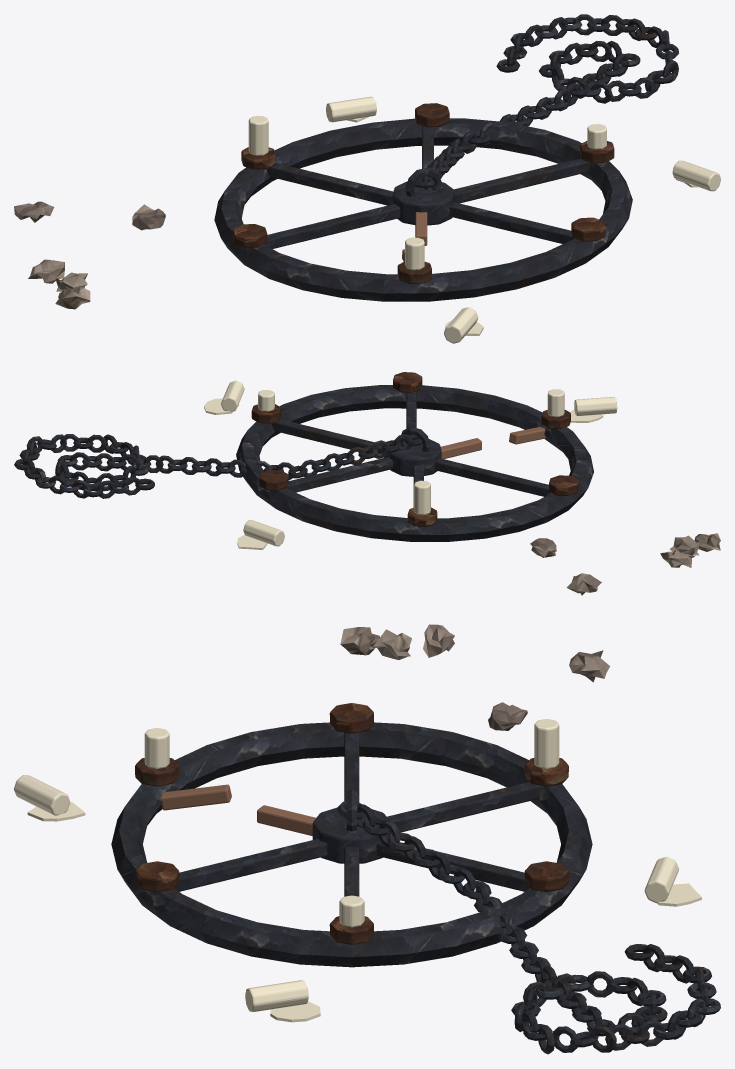
The model's file is chandelier_fallen.glb.
3 renders of one model, top to bottom at view 1: azimuth 30°, elevation 25°; view 2: azimuth 150°, elevation 25°; view 3: azimuth 270°, elevation 25°, orthographic. The views are drawn at different scales.
Parts seen in each view (by area): view 1: model; view 2: model; view 3: model.
Boxes of the visible parts, <box> form: model: <box>14,14,720,343</box>; model: <box>14,372,720,595</box>; model: <box>14,624,720,1054</box>.
Bounding box in the file's own units: 2.05 × 0.185 × 1.41.
6 materials, 4 textured.
